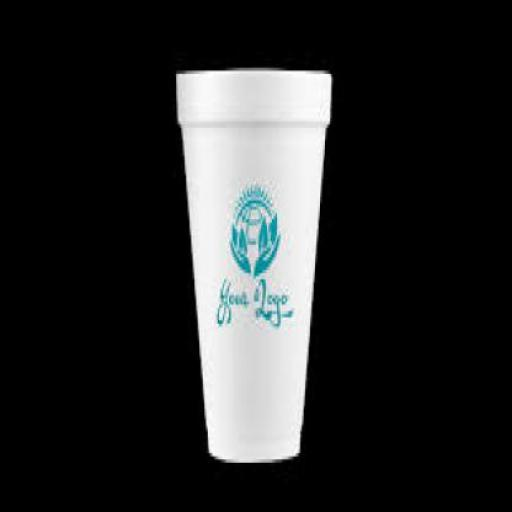paper: (173, 66, 330, 458)
